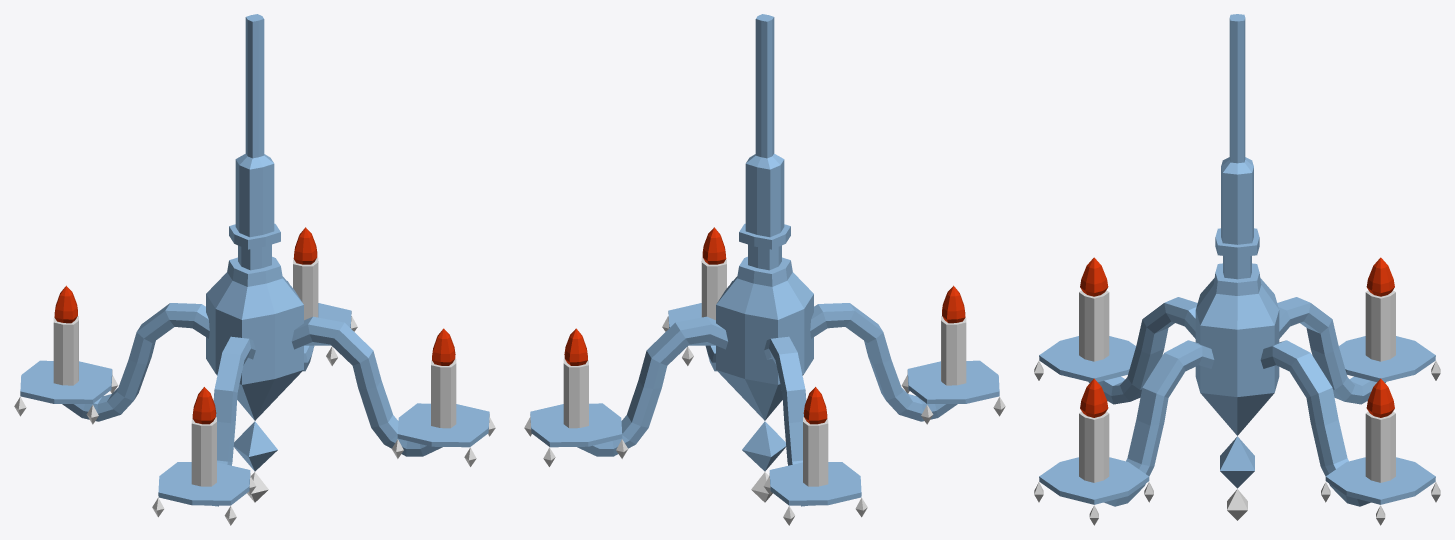
Rendered from Chandelier.fbx.
The picture shows the model from 3 angles, left to right: view 1: azimuth 30°, elevation 25°; view 2: azimuth 150°, elevation 25°; view 3: azimuth 270°, elevation 25°; orthographic projection. The views are drawn at different scales.
Parts seen in each view (by area): view 1: Chandelier_01_Cube.035; view 2: Chandelier_01_Cube.035; view 3: Chandelier_01_Cube.035.
Part boxes in pixels (<box>): Chandelier_01_Cube.035: <box>14,14,495,525</box>; Chandelier_01_Cube.035: <box>524,14,1005,525</box>; Chandelier_01_Cube.035: <box>1034,14,1440,525</box>.
Size of the model in its own units: 730 by 997 by 730.
